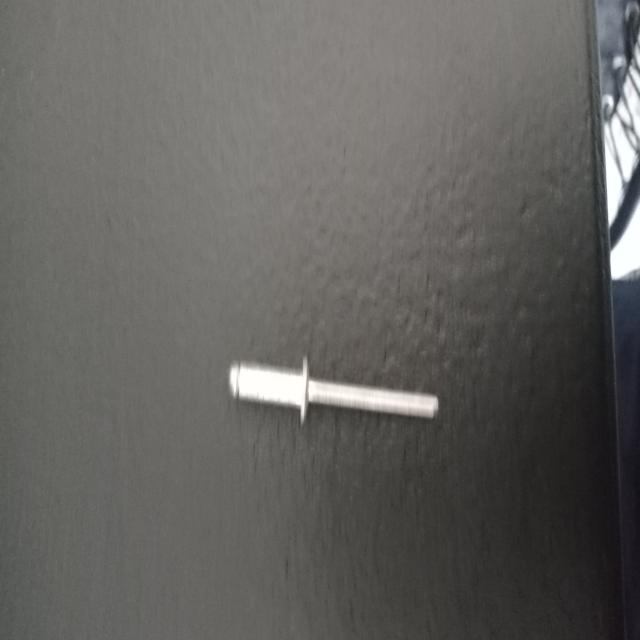rivet: (229, 354, 439, 428)
